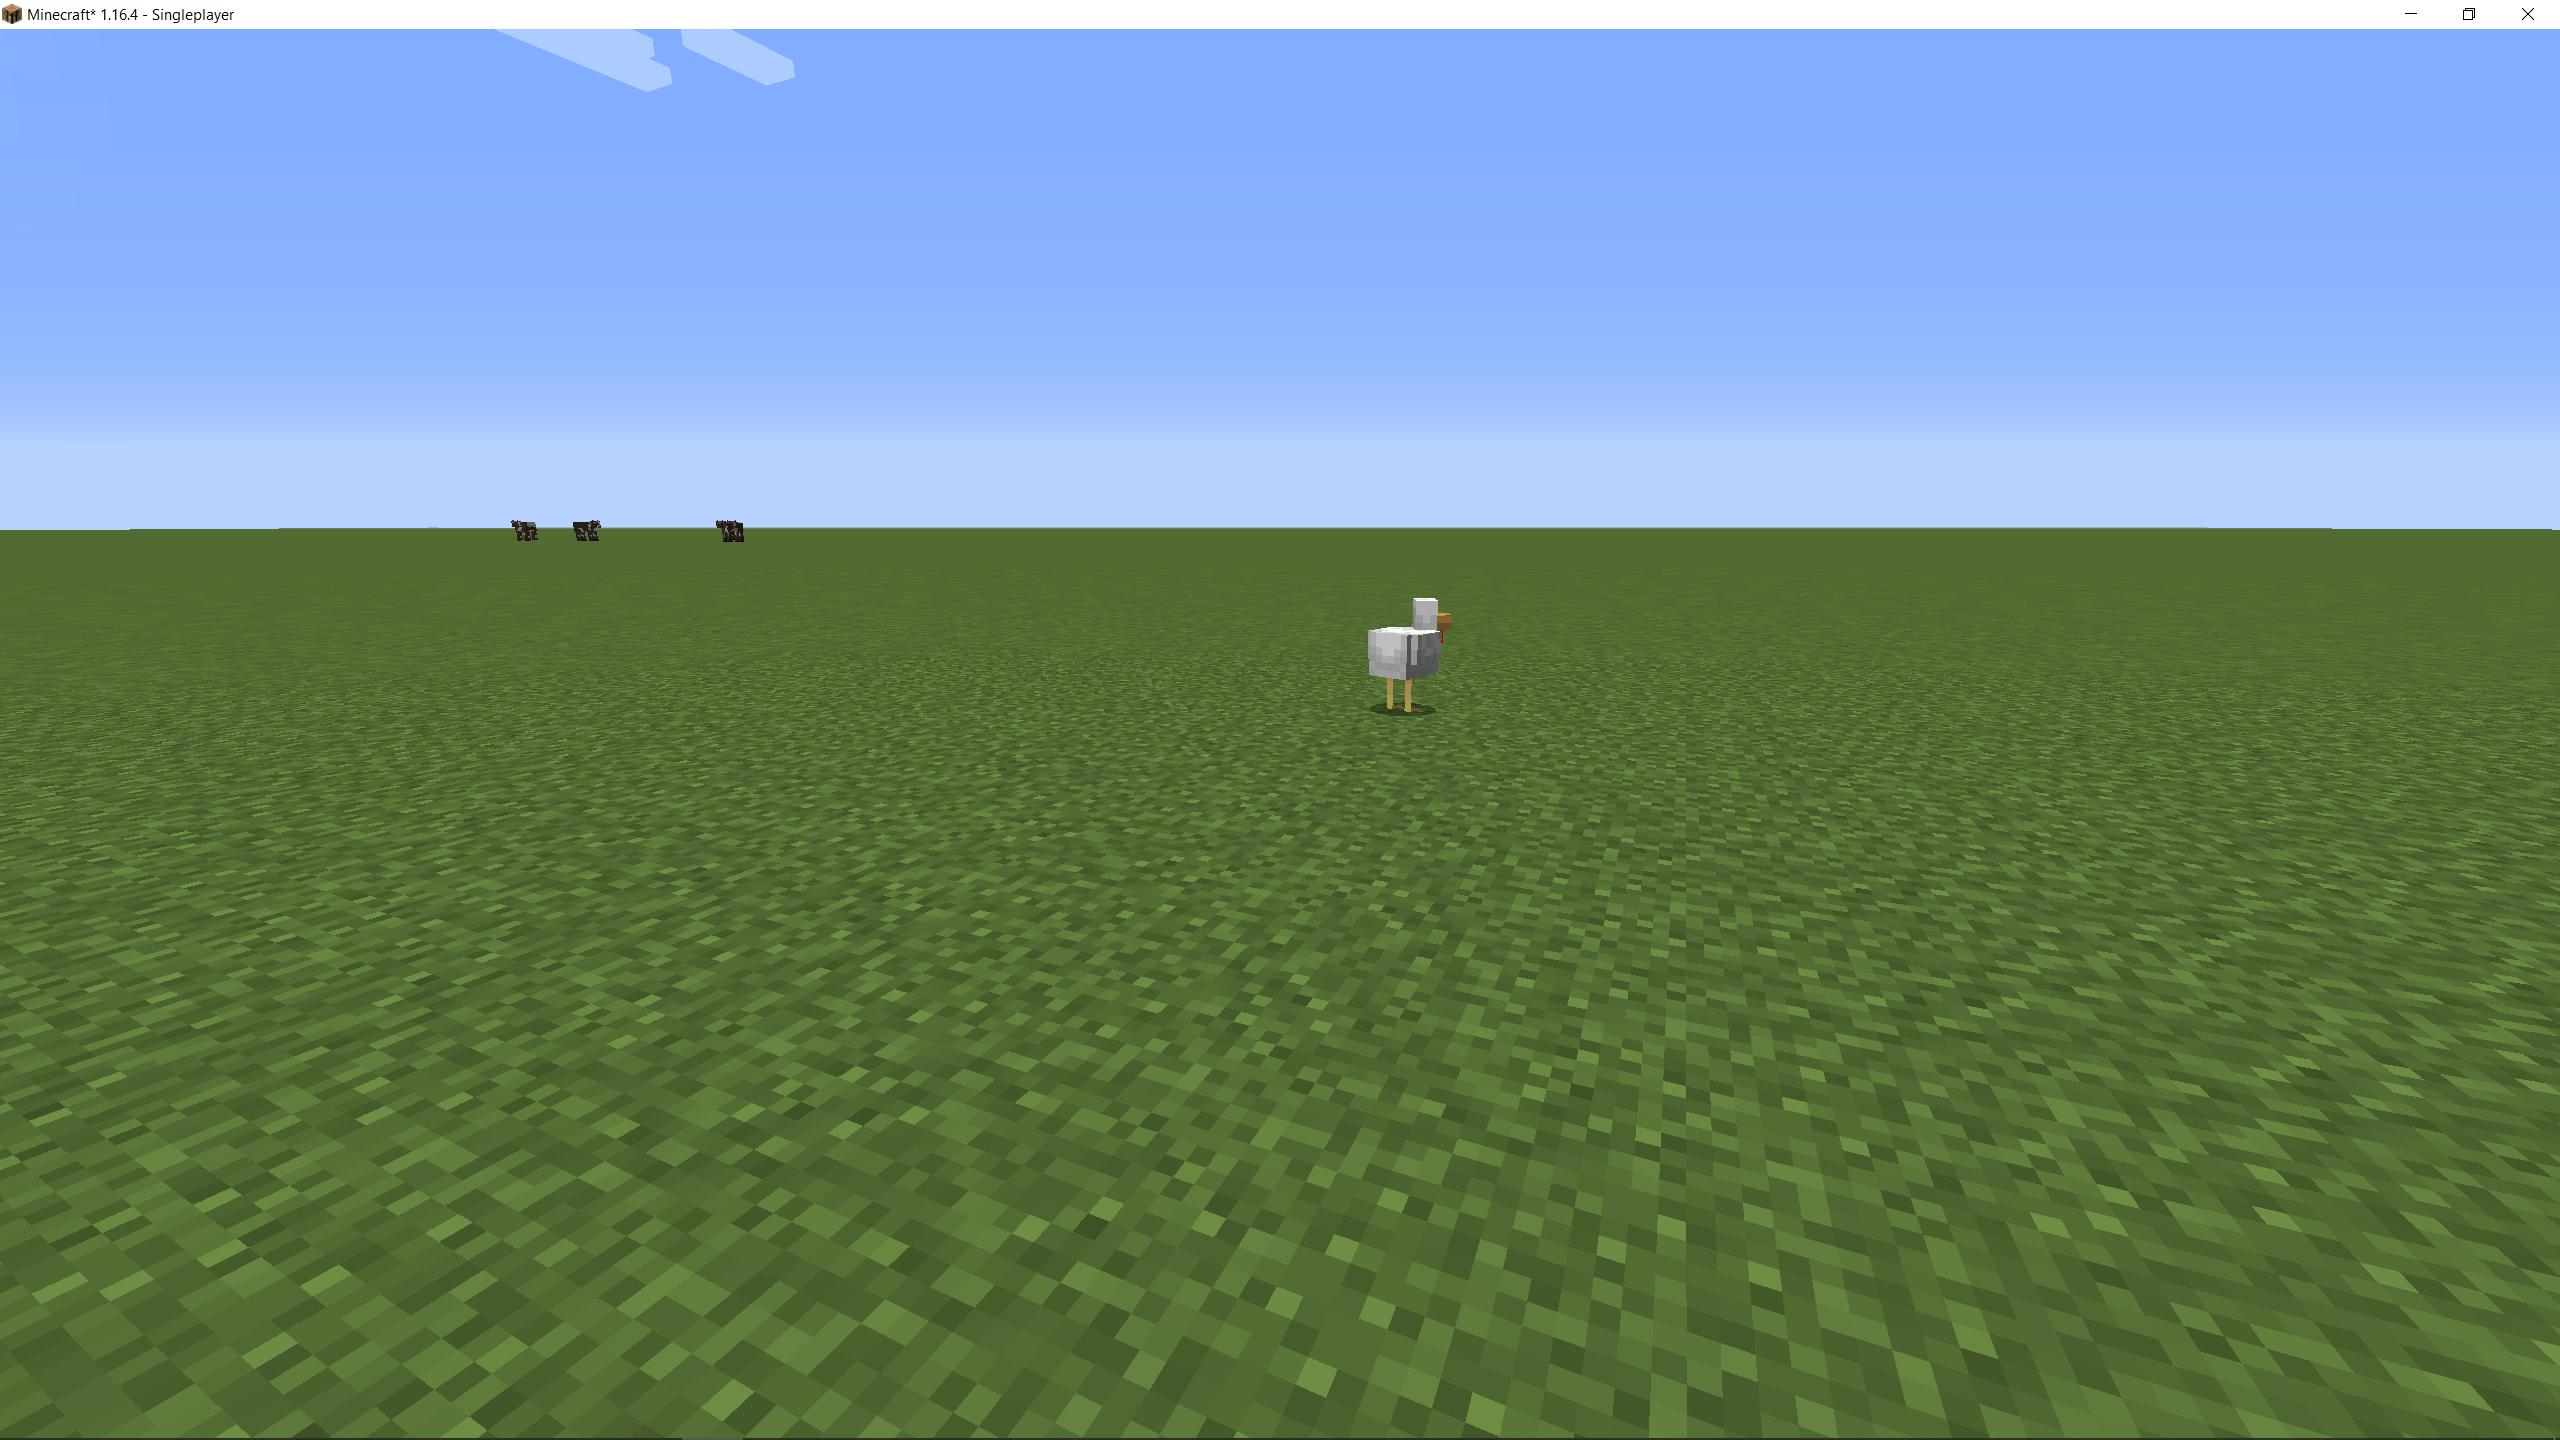chicken: (1363, 587, 1456, 726)
